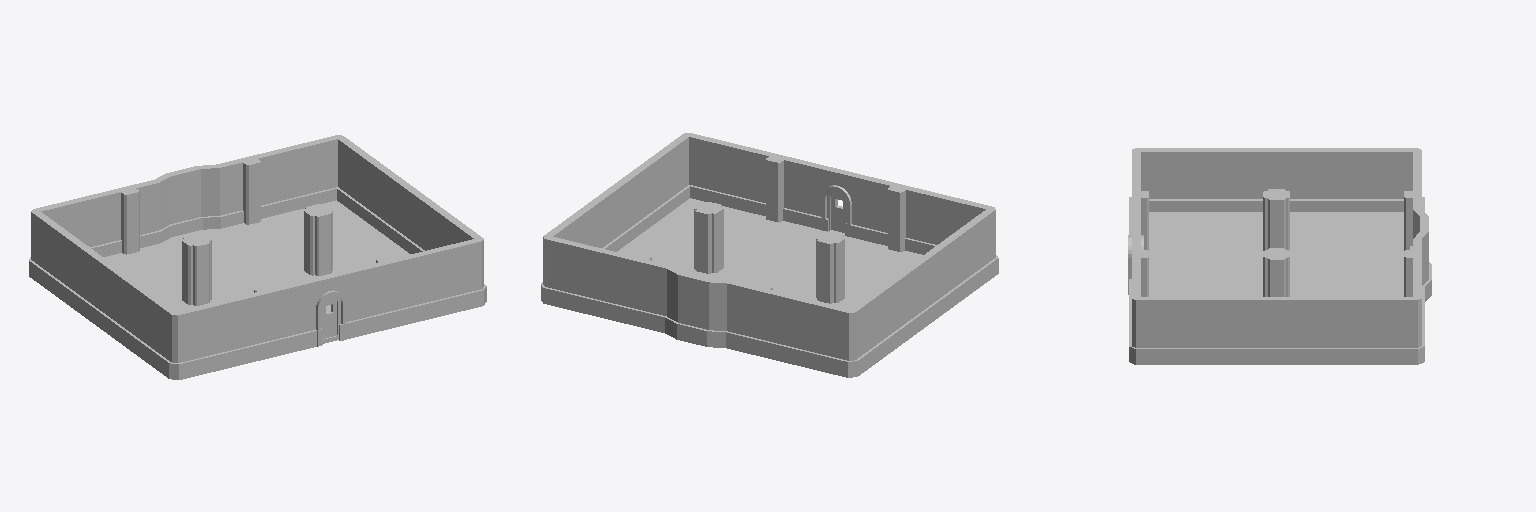
The model's file is room_sm_01.obj.
The picture shows the model from 3 angles: view 1: azimuth 30°, elevation 25°; view 2: azimuth 150°, elevation 25°; view 3: azimuth 270°, elevation 25°; orthographic projection.
Visible parts, largest first — view 1: floor_01_31, wall_01_40, wall_01_39, wall_02_38, wall_02_37, door_01_23, wall_02_51, wall_02_52, wall_03_36, wall_01_46, floor_05_29, floor_01_34 (+13 smaller); view 2: floor_01_30, wall_01_46, wall_02_52, wall_02_51, wall_01_45, wall_03_36, wall_02_37, wall_02_38, door_01_23, wall_01_39, floor_04_2, wall_01_44 (+12 smaller); view 3: floor_01_34, floor_01_33, wall_01_47, wall_01_49, wall_01_48, wall_01_50, wall_01_42, wall_01_43, wall_01_44, wall_01_41, floor_04_2, floor_05_29 (+10 smaller).
Boxes of the visible parts, box(x1,y1,x2,y2) form: floor_01_31: box(219, 200, 404, 277); wall_01_40: box(169, 298, 240, 379); wall_01_39: box(417, 238, 486, 320); wall_02_38: box(234, 283, 301, 364); wall_02_37: box(357, 253, 423, 335); door_01_23: box(296, 268, 361, 350); wall_02_51: box(216, 150, 281, 228); wall_02_52: box(94, 180, 160, 256); wall_03_36: box(153, 165, 221, 242); wall_01_46: box(275, 135, 341, 213); floor_05_29: box(158, 228, 290, 289); floor_01_34: box(104, 242, 227, 306); floor_01_30: box(621, 198, 801, 275); wall_01_46: box(541, 236, 609, 317); wall_02_52: box(726, 280, 792, 362); wall_02_51: box(604, 251, 669, 332); wall_01_45: box(787, 295, 856, 377); wall_03_36: box(665, 265, 729, 347); wall_02_37: box(744, 148, 810, 225); wall_02_38: box(867, 177, 934, 254); door_01_23: box(805, 162, 873, 240); wall_01_39: box(685, 133, 751, 210); floor_04_2: box(745, 225, 866, 290); wall_01_44: box(848, 284, 892, 377); floor_01_34: box(1290, 212, 1403, 270); floor_01_33: box(1149, 212, 1262, 270); wall_01_47: box(1343, 297, 1424, 364); wall_01_49: box(1202, 297, 1280, 364); wall_01_48: box(1273, 297, 1348, 364); wall_01_50: box(1129, 297, 1207, 364); wall_01_42: box(1205, 148, 1280, 211); wall_01_43: box(1276, 148, 1350, 211); wall_01_44: box(1346, 148, 1424, 211); wall_01_41: box(1129, 148, 1209, 211); floor_04_2: box(1149, 267, 1262, 296); floor_05_29: box(1290, 267, 1403, 296).
Bounding box in the file's own units: 5.21 × 1 × 4.32.